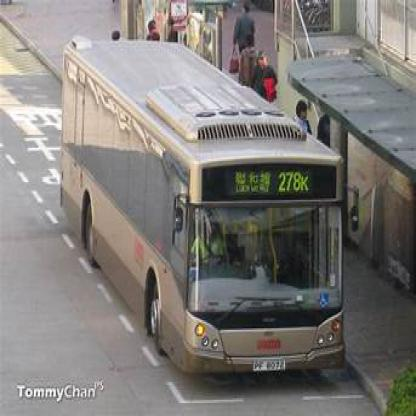bus: (57, 34, 350, 386)
